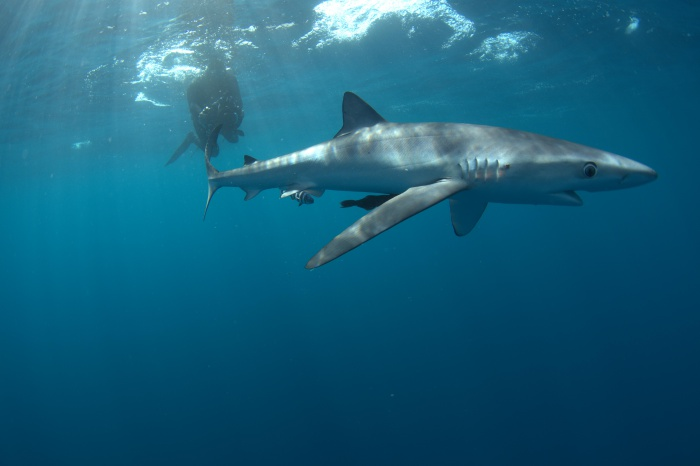Azul: (187, 77, 674, 274)
